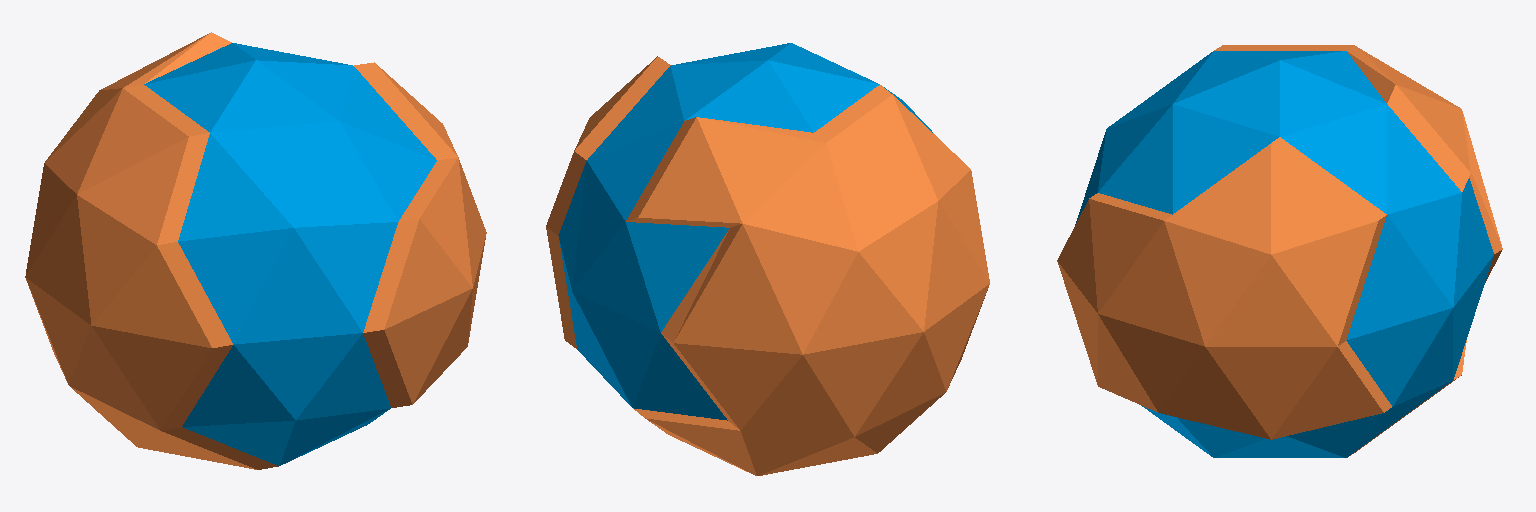
3 views of the same model, side by side, from view 1: azimuth 30°, elevation 25°; view 2: azimuth 150°, elevation 25°; view 3: azimuth 270°, elevation 25° (orthographic).
Parts seen in each view (by area): view 1: Icosphere_Icosphere.001; view 2: Icosphere_Icosphere.001; view 3: Icosphere_Icosphere.001.
Boxes of the visible parts, <box> form: Icosphere_Icosphere.001: <box>25,32,486,469</box>; Icosphere_Icosphere.001: <box>546,43,989,475</box>; Icosphere_Icosphere.001: <box>1057,45,1502,457</box>.
Size of the model in its own units: 2.08 by 2.01 by 2.08.
1 materials, 1 textured.